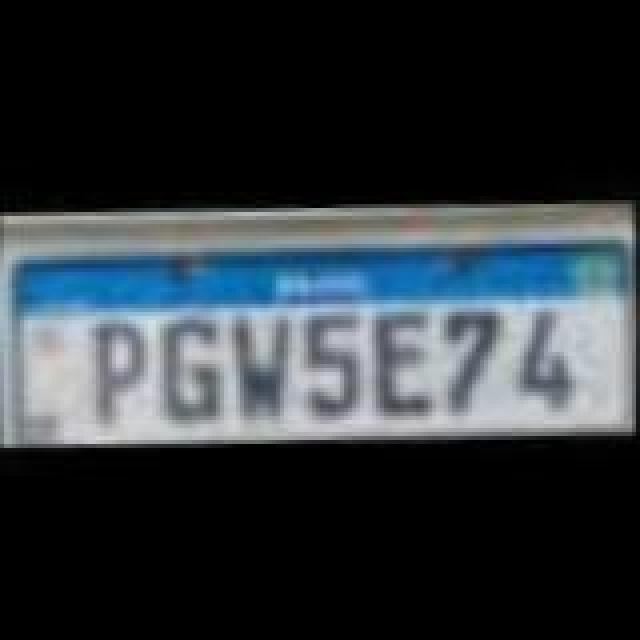4: (514, 300, 586, 416)
5: (298, 306, 370, 422)
7: (436, 302, 512, 418)
E: (370, 302, 442, 414)
G: (164, 314, 232, 422)
P: (90, 318, 154, 430)
W: (228, 312, 296, 424)
